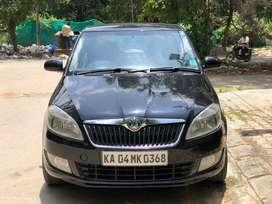KA04MK0368: (100, 150, 166, 164)
